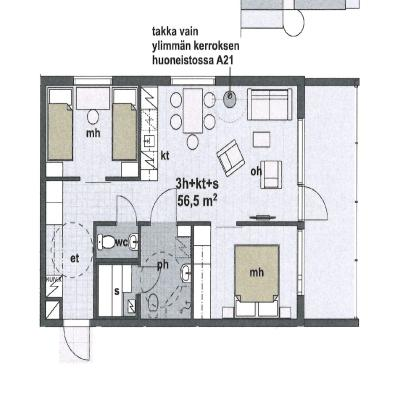door: (297, 181, 329, 225), (63, 318, 91, 365), (150, 187, 179, 222), (116, 195, 139, 227)
window: (296, 116, 306, 186), (297, 230, 305, 296), (172, 74, 216, 86), (73, 76, 114, 88)
zone: (44, 81, 302, 318), (305, 86, 357, 320), (195, 223, 297, 314), (48, 83, 140, 178), (140, 224, 190, 317), (98, 263, 135, 315), (96, 224, 138, 256)
